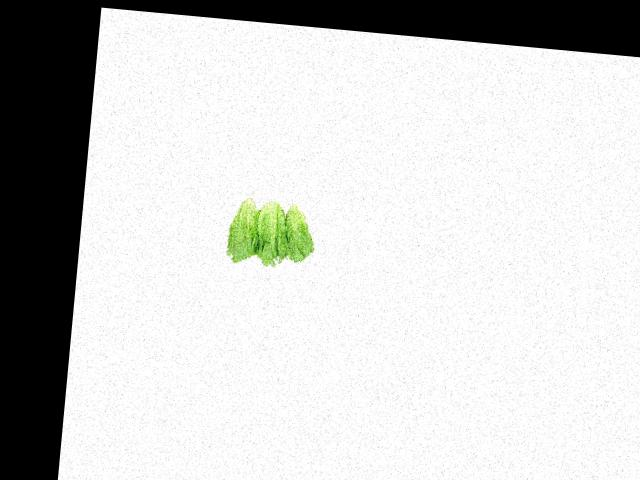lettuce: (277, 188, 319, 265)
